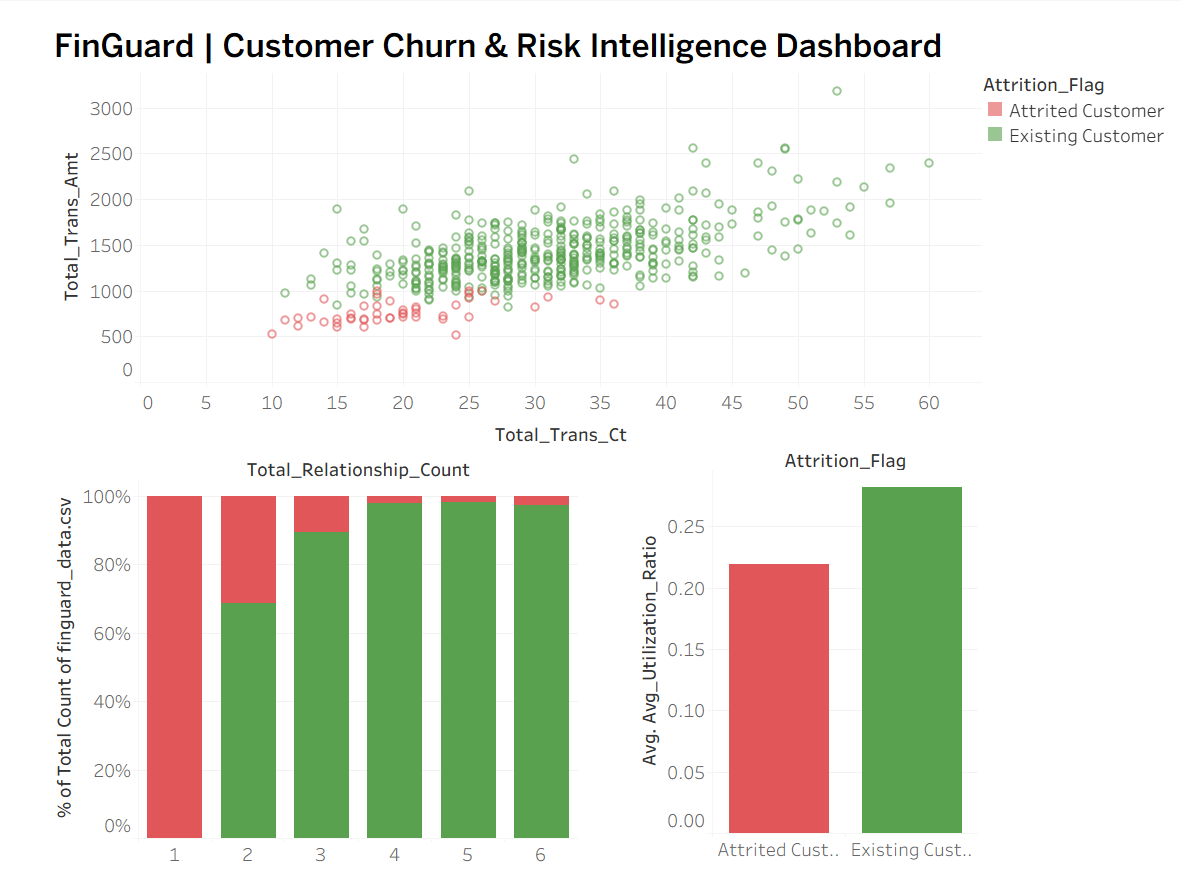

The page's visual inventory and layout, read from the dashboard file:
{"tool":"tableau","page":{"name":"Dashboard 1","canvas":[1000,1000],"units":"permille","ordinal":0},"visuals":[{"type":"text","box":[32.4,1.1,641.5,100.2]},{"type":"legend","title":"Transaction Analysis","param":"[federated.062il4r1erwpo5153ba7y1b7g9dz].[none:Attrition_Flag:nk]","box":[614.1,79.7,116.6,103.6]},{"type":"worksheet","title":"Transaction Analysis","mark":"Automatic","rows":["Total_Trans_Amt"],"cols":["Total_Trans_Ct"],"box":[33,82,580.4,432.8]},{"type":"worksheet","title":"Credit Utilization","mark":"Automatic","rows":["Avg_Utilization_Ratio"],"cols":["Attrition_Flag"],"box":[393.4,511.4,217.6,469.2]},{"type":"worksheet","title":"Product Stickiness","mark":"Automatic","cols":["Total_Relationship_Count"],"box":[28.7,521.6,332.9,464.7]}]}

Visuals, with their boxes on the dashboard's canvas, which has no fixed pixel size, in thousandths of its width and height (x1, y1, x2, y2). These are canvas units, not pixel positions in the 1181x876 screenshot, which may show the page scaled, cropped or inside an application window:
text: <region>32, 1, 674, 101</region>
"Transaction Analysis" legend: <region>614, 80, 731, 183</region>
"Transaction Analysis" worksheet: <region>33, 82, 613, 515</region>
"Credit Utilization" worksheet: <region>393, 511, 611, 981</region>
"Product Stickiness" worksheet: <region>29, 522, 362, 986</region>
